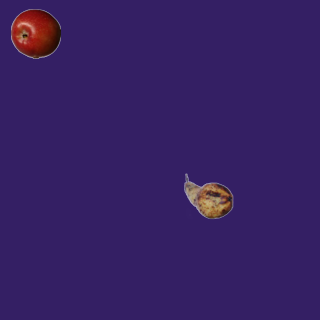Apple Braeburn: (10, 8, 60, 58)
Pear Abate: (183, 171, 233, 221)
